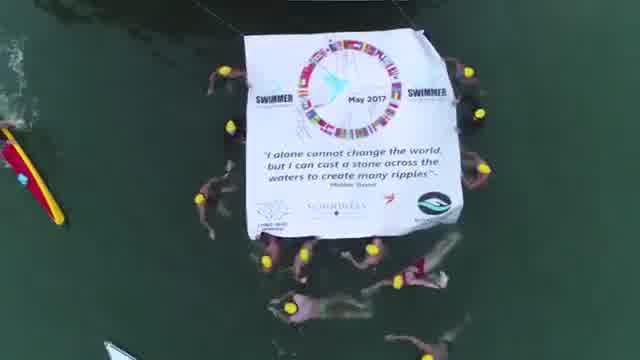swimmer: (362, 249, 458, 296), (264, 288, 376, 328), (384, 328, 461, 360), (189, 176, 225, 238), (334, 234, 392, 272), (280, 234, 318, 278), (202, 60, 248, 95), (442, 54, 482, 93), (456, 152, 496, 190), (249, 233, 281, 271)
